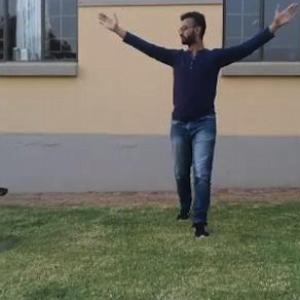takeoff: (92, 0, 296, 229)
